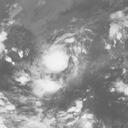cyclone: (42, 49, 72, 74)
